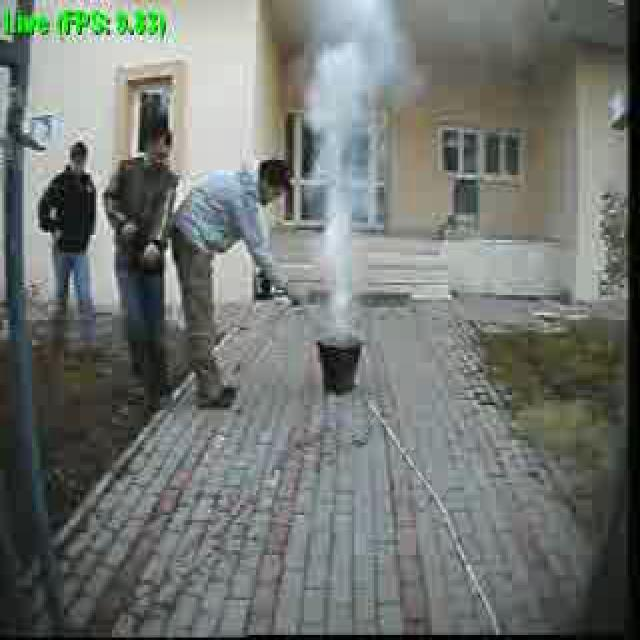Smoke: (300, 0, 388, 325)
